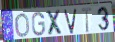3: (97, 6, 112, 33)
G: (31, 11, 46, 37)
O: (15, 13, 30, 39)
T: (81, 7, 93, 34)
V: (63, 8, 78, 35)
X: (46, 9, 65, 36)
